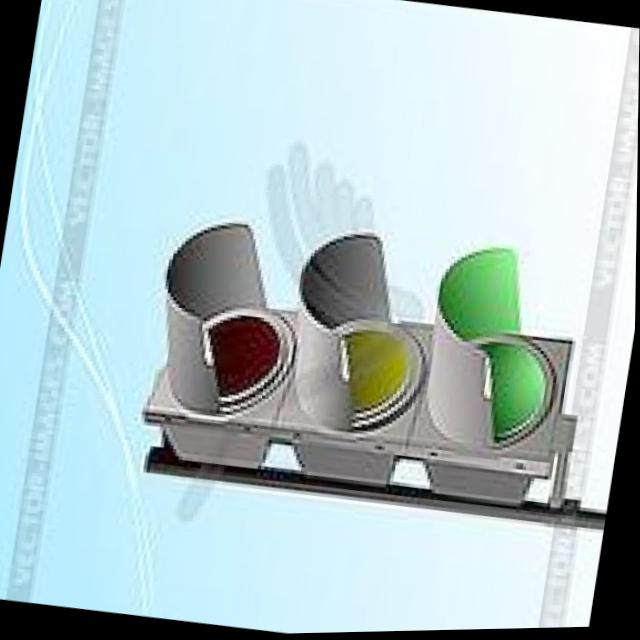green_light: (393, 282, 636, 483)
yellow_light: (33, 163, 638, 635)
